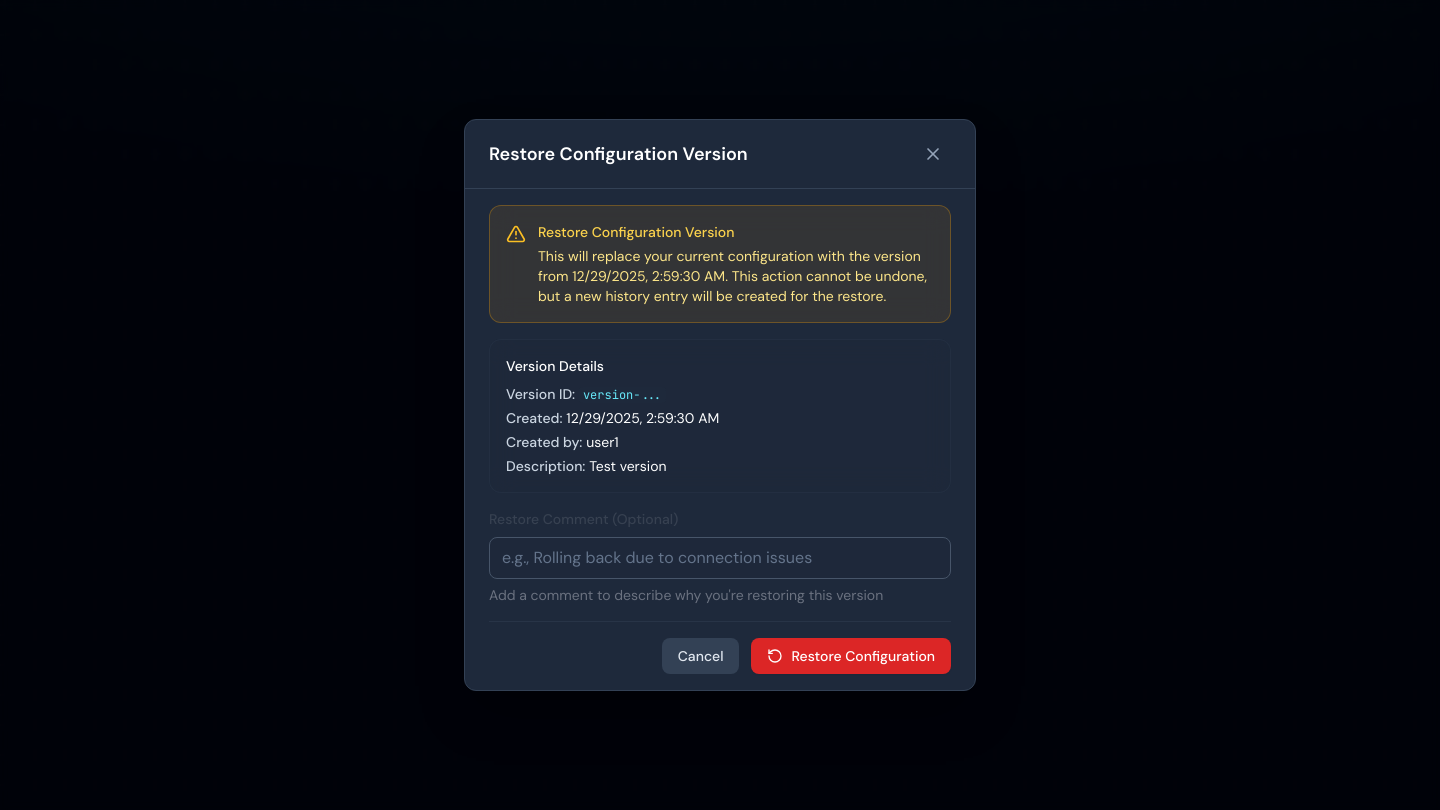
Test: ConfigRollback › displays error message on restore failure
The image size is (1440, 810).
Click the button "Restore Configuration".
click(851, 656)  # box [752,638,951,674]
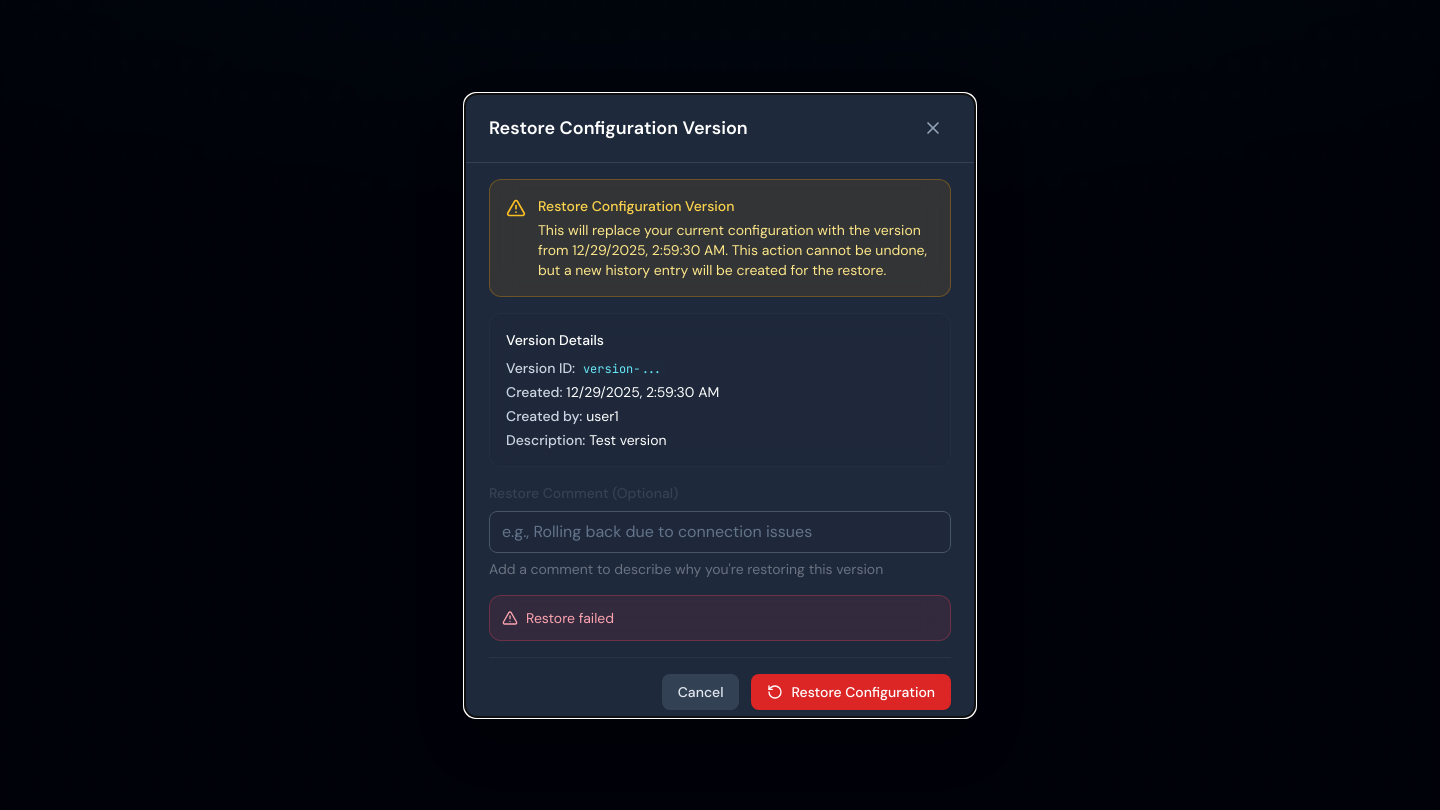
Check: the text "Restore failed" is shown, box [526,608,614,628]
